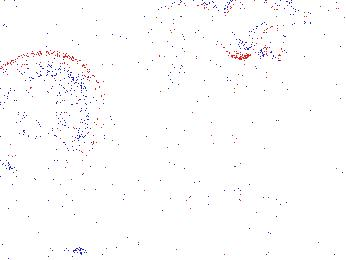moon jellyfish: (1, 53, 107, 178), (166, 130, 259, 209), (136, 2, 237, 46), (220, 1, 296, 59), (309, 71, 346, 167)
